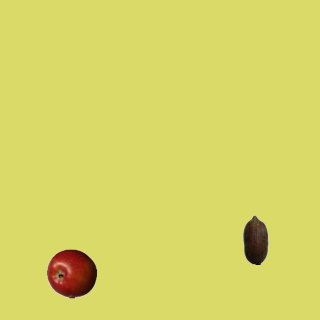Apple Braeburn: (46, 248, 96, 298)
Nut Pecan: (230, 214, 280, 264)
